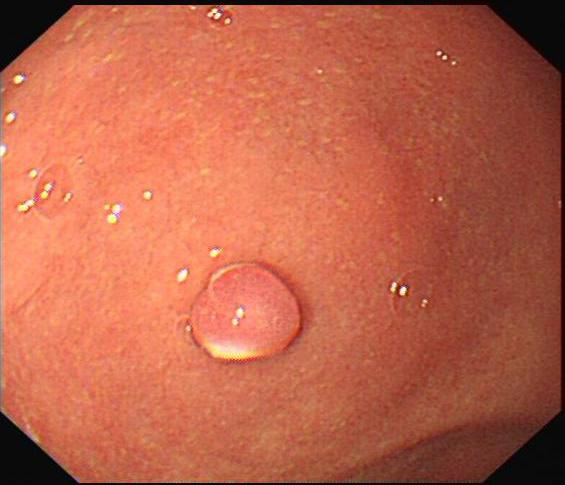Polyp: (183, 265, 302, 362)
